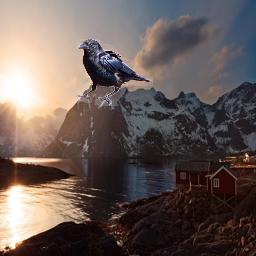Crow: (76, 39, 153, 106)
